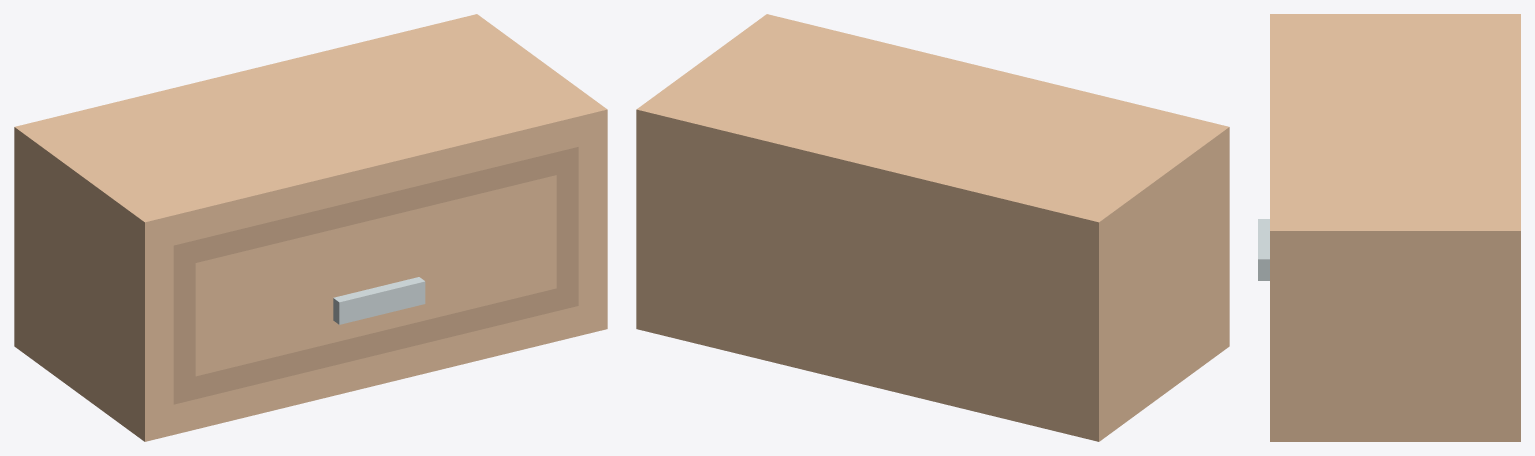
The model's file is kitchenCabinetUpperLow.glb.
3 views of the same model, side by side, from view 1: azimuth 30°, elevation 25°; view 2: azimuth 150°, elevation 25°; view 3: azimuth 270°, elevation 25° (orthographic). The views are drawn at different scales.
Visible parts, largest first — view 1: kitchenCabinetUpperLow; view 2: kitchenCabinetUpperLow; view 3: kitchenCabinetUpperLow.
Part boxes in pixels (x1,y1,x2,y2): kitchenCabinetUpperLow: (14, 14, 607, 441); kitchenCabinetUpperLow: (636, 14, 1229, 441); kitchenCabinetUpperLow: (1258, 14, 1520, 441).
Bounding box in the file's own units: 0.43 × 0.195 × 0.22.
